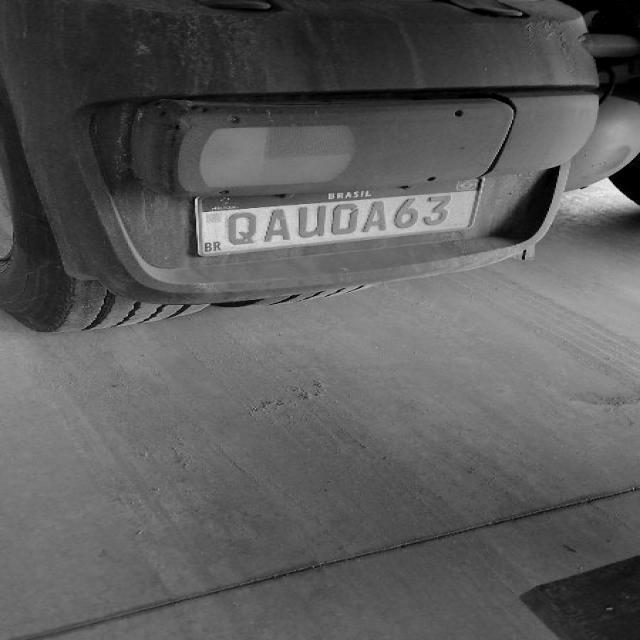placa_mercosul: (199, 175, 488, 257)
